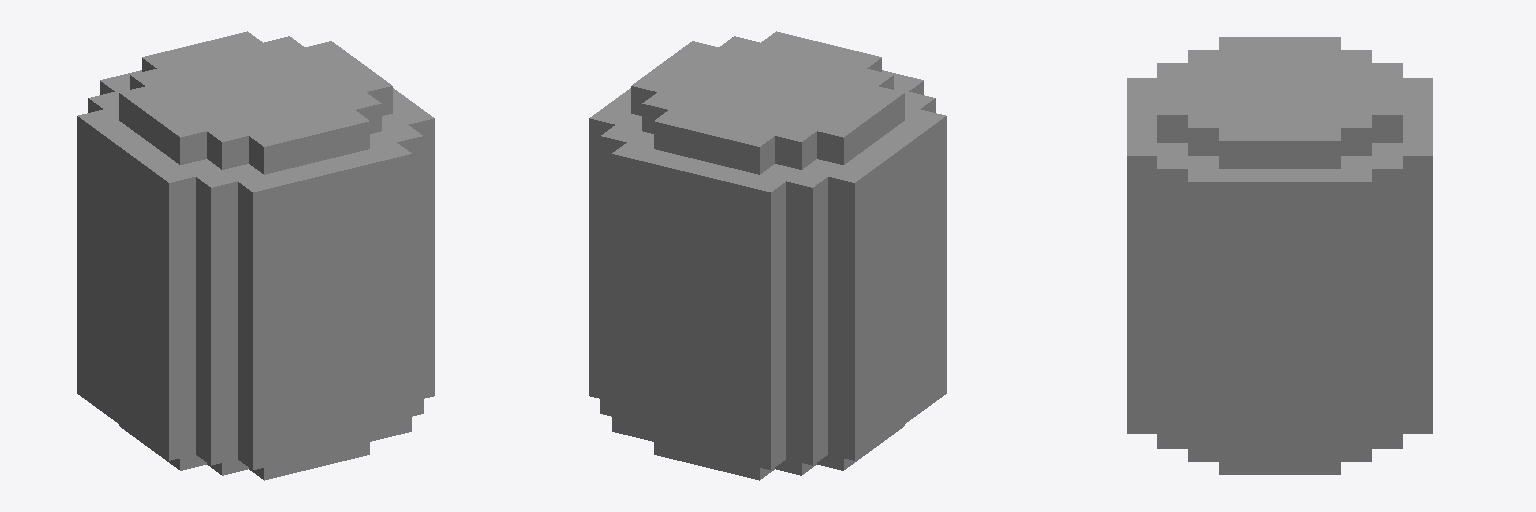
The model's file is tronco.obj.
The picture shows the model from 3 angles: view 1: azimuth 30°, elevation 25°; view 2: azimuth 150°, elevation 25°; view 3: azimuth 270°, elevation 25°; orthographic projection.
Visible parts, largest first — view 1: Cube; view 2: Cube; view 3: Cube.
Boxes of the visible parts, x1,y1,x2,y2 form: Cube: [77, 31, 434, 480]; Cube: [589, 31, 946, 480]; Cube: [1127, 37, 1432, 474].
Size of the model in its own units: 2 by 2.4 by 2.